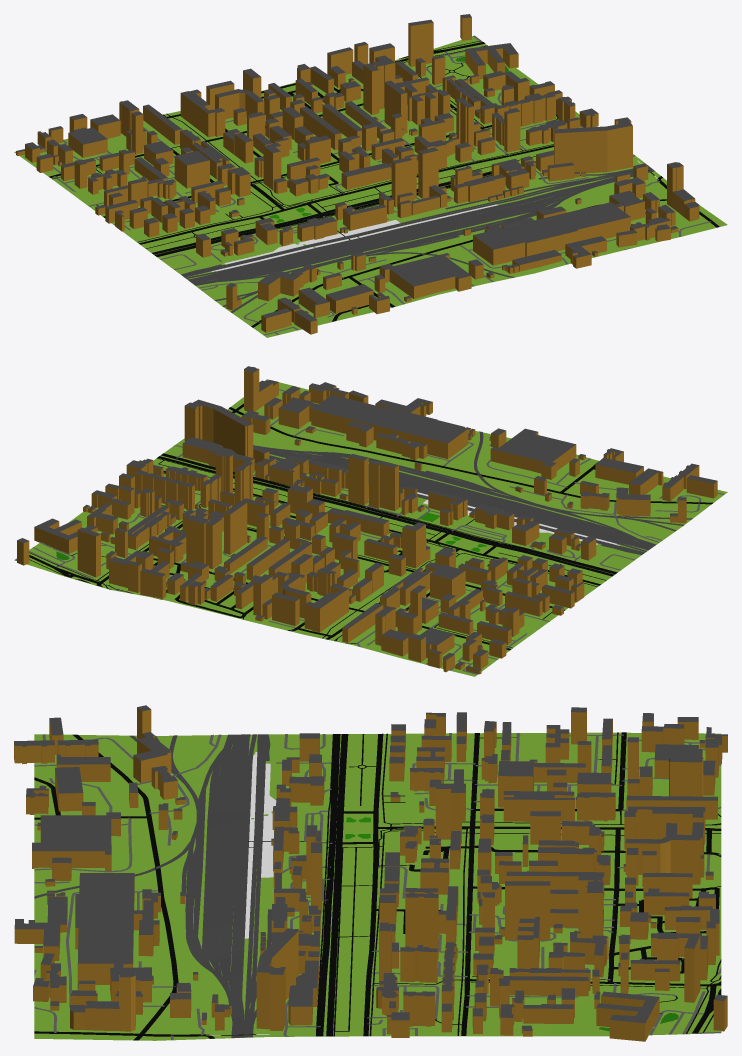
The model's file is tile_03_03.glb.
The picture shows the model from 3 angles, top to bottom: view 1: azimuth 30°, elevation 25°; view 2: azimuth 150°, elevation 25°; view 3: azimuth 270°, elevation 25°; orthographic projection. The views are drawn at different scales.
Parts seen in each view (by area): view 1: Ub_small.osm_buildings_03_03, Terrain_03_03, Ub_small.osm_railways_03_03, Ub_small.osm_roads_service_03_03, Ub_small.osm_paths_footway_03_03, Ub_small.osm_roads_tertiary_03_03, Ub_small.osm_areas_railways_03_03, Ub_small.osm_roads_primary_03_03, Ub_small.osm_roads_unclassified_03_03, Ub_small.osm_roads_residential_03_03; view 2: Ub_small.osm_buildings_03_03, Terrain_03_03, Ub_small.osm_railways_03_03, Ub_small.osm_roads_service_03_03, Ub_small.osm_roads_primary_03_03, Ub_small.osm_paths_footway_03_03, Ub_small.osm_roads_unclassified_03_03, Ub_small.osm_roads_residential_03_03, Ub_small.osm_roads_tertiary_03_03; view 3: Ub_small.osm_buildings_03_03, Terrain_03_03, Ub_small.osm_railways_03_03, Ub_small.osm_roads_service_03_03, Ub_small.osm_roads_primary_03_03, Ub_small.osm_roads_tertiary_03_03, Ub_small.osm_paths_footway_03_03, Ub_small.osm_roads_residential_03_03, Ub_small.osm_roads_unclassified_03_03, Ub_small.osm_areas_railways_03_03.
Part boxes in pixels (x1=…): Ub_small.osm_buildings_03_03: x1=16, y1=14, x2=699, y2=334; Terrain_03_03: x1=14, y1=36, x2=727, y2=337; Ub_small.osm_railways_03_03: x1=181, y1=165, x2=654, y2=313; Ub_small.osm_roads_service_03_03: x1=36, y1=35, x2=710, y2=335; Ub_small.osm_paths_footway_03_03: x1=52, y1=41, x2=654, y2=256; Ub_small.osm_roads_tertiary_03_03: x1=103, y1=104, x2=553, y2=244; Ub_small.osm_areas_railways_03_03: x1=211, y1=204, x2=497, y2=271; Ub_small.osm_roads_primary_03_03: x1=152, y1=172, x2=491, y2=256; Ub_small.osm_roads_unclassified_03_03: x1=251, y1=176, x2=719, y2=327; Ub_small.osm_roads_residential_03_03: x1=49, y1=82, x2=368, y2=321; Ub_small.osm_buildings_03_03: x1=17, y1=366, x2=717, y2=674; Terrain_03_03: x1=14, y1=379, x2=727, y2=676; Ub_small.osm_railways_03_03: x1=254, y1=431, x2=692, y2=554; Ub_small.osm_roads_service_03_03: x1=15, y1=389, x2=724, y2=674; Ub_small.osm_roads_primary_03_03: x1=157, y1=453, x2=616, y2=576; Ub_small.osm_paths_footway_03_03: x1=29, y1=453, x2=617, y2=648; Ub_small.osm_roads_unclassified_03_03: x1=229, y1=403, x2=713, y2=504; Ub_small.osm_roads_residential_03_03: x1=153, y1=468, x2=595, y2=650; Ub_small.osm_roads_tertiary_03_03: x1=100, y1=471, x2=600, y2=639; Ub_small.osm_buildings_03_03: x1=14, y1=705, x2=727, y2=1041; Terrain_03_03: x1=34, y1=732, x2=721, y2=1040; Ub_small.osm_railways_03_03: x1=34, y1=734, x2=271, y2=1037; Ub_small.osm_roads_service_03_03: x1=34, y1=733, x2=721, y2=1040; Ub_small.osm_roads_primary_03_03: x1=316, y1=734, x2=348, y2=1036; Ub_small.osm_roads_tertiary_03_03: x1=332, y1=733, x2=721, y2=1036; Ub_small.osm_paths_footway_03_03: x1=221, y1=732, x2=721, y2=1036; Ub_small.osm_roads_residential_03_03: x1=34, y1=732, x2=721, y2=982; Ub_small.osm_roads_unclassified_03_03: x1=34, y1=734, x2=446, y2=1040; Ub_small.osm_areas_railways_03_03: x1=244, y1=752, x2=276, y2=938.
Bounding box in the file's own units: 999 × 99.27 × 967.
